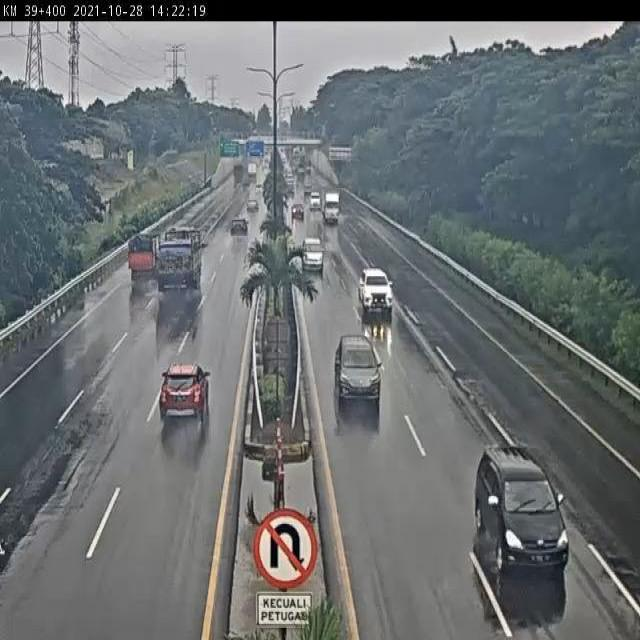car: (472, 438, 574, 574), (330, 327, 384, 402), (158, 364, 211, 427), (356, 266, 397, 314), (301, 234, 326, 270), (227, 214, 249, 242), (289, 199, 306, 221), (245, 193, 260, 216)
small truck: (126, 232, 162, 283)
truck-l-: (152, 226, 205, 294)
truck-s-: (321, 187, 343, 228)
